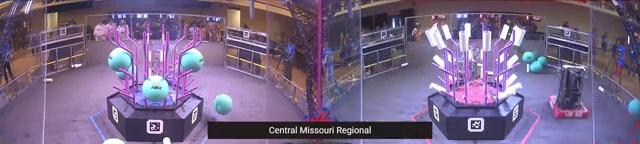reef: (425, 23, 526, 139), (108, 25, 204, 144)
robot: (547, 63, 591, 119)
